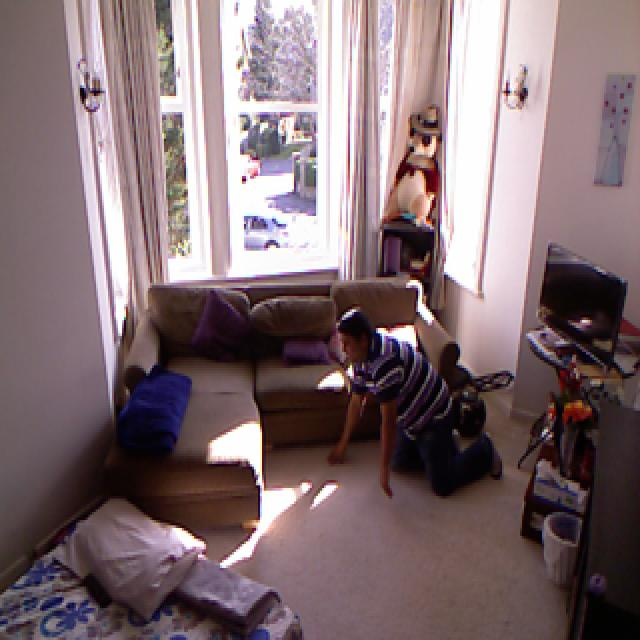crawling: (322, 304, 506, 510)
